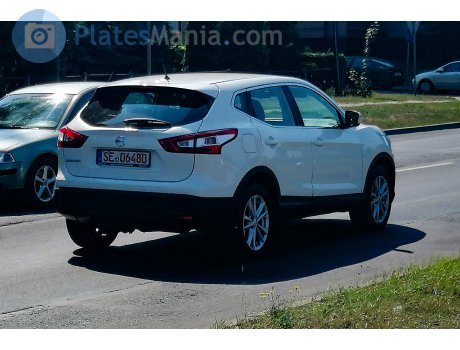License Plates: (99, 151, 148, 160)
